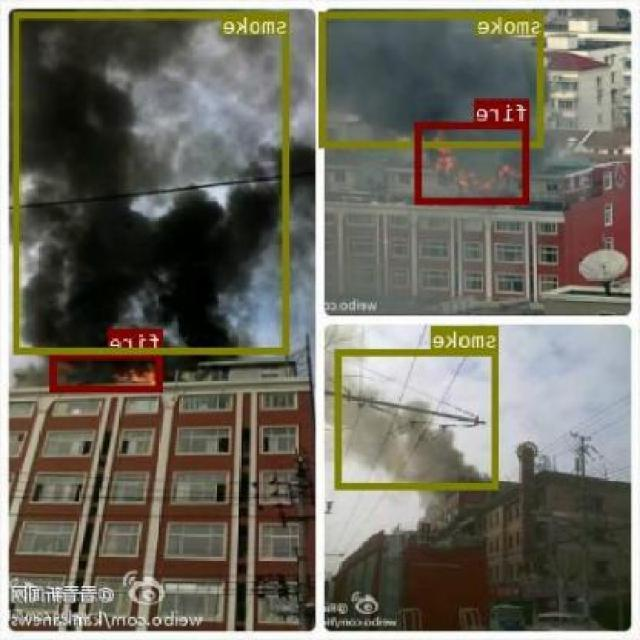Fire: (416, 122, 530, 204), (51, 352, 164, 390)
Smoke: (16, 11, 290, 352), (320, 11, 545, 147), (337, 348, 500, 488)
